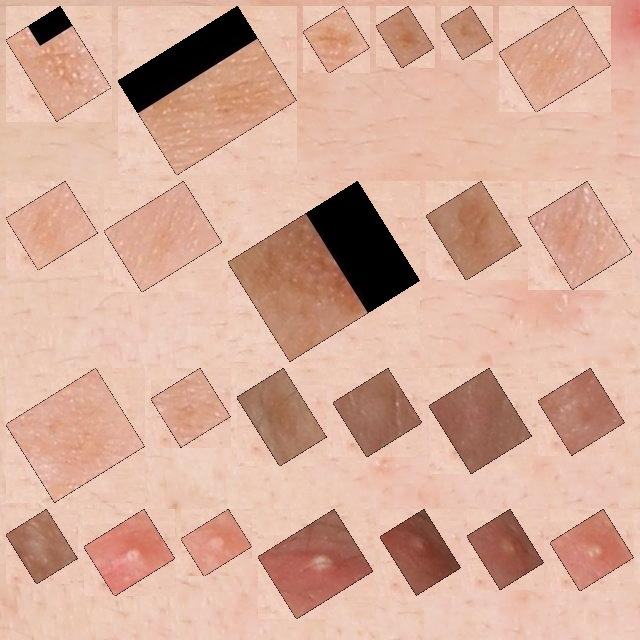hypertrophic_scar: (440, 379, 521, 462), (344, 379, 411, 446), (549, 379, 613, 444), (17, 520, 66, 573)
melasma: (239, 192, 409, 350), (129, 17, 285, 164), (17, 379, 134, 491), (115, 192, 211, 281), (17, 17, 100, 110), (510, 17, 600, 101), (539, 192, 621, 278), (437, 192, 510, 269), (248, 379, 316, 455), (17, 192, 87, 259), (162, 379, 219, 436), (314, 17, 359, 62), (387, 17, 423, 57), (452, 17, 481, 48)
pustule: (269, 520, 362, 608), (95, 520, 164, 585), (391, 520, 450, 584), (561, 520, 623, 580), (478, 520, 533, 578), (192, 520, 241, 565)
